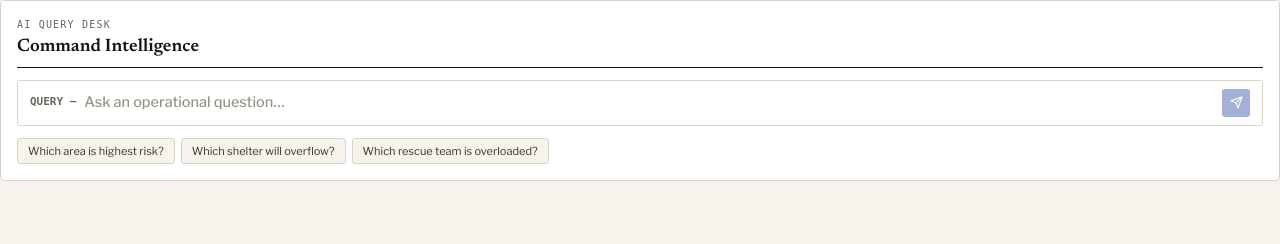
Test: CommandPanel › shows an error message when the query fails
This screenshot has width=1280, height=244.
Step 1. Type "status" into the field with placeholder "Ask an operational question…" → (649, 102), box [84,92,1214,113]
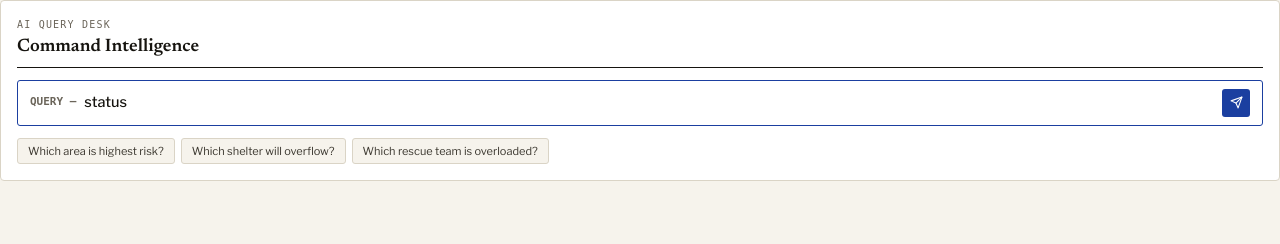
Step 2. Click the button named "Ask" → (1236, 102), box [1222,88,1250,116]
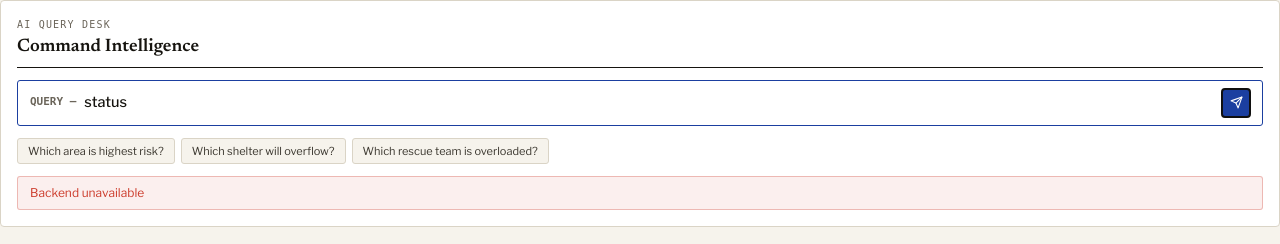
Result: the text "Backend unavailable" is shown at [17,176,1263,210]
